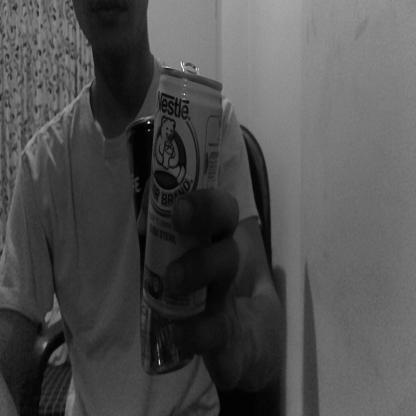alumunium_can: (142, 62, 224, 309)
